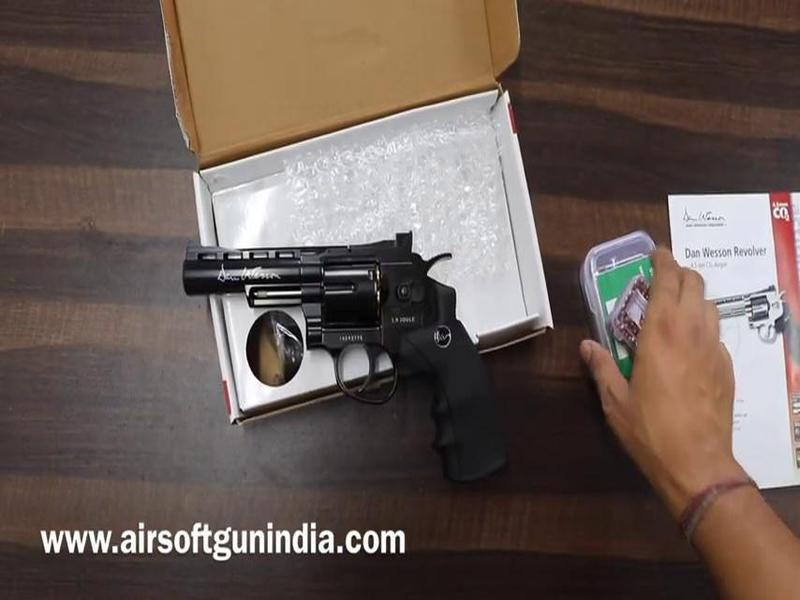Revolver: (176, 221, 526, 502)
